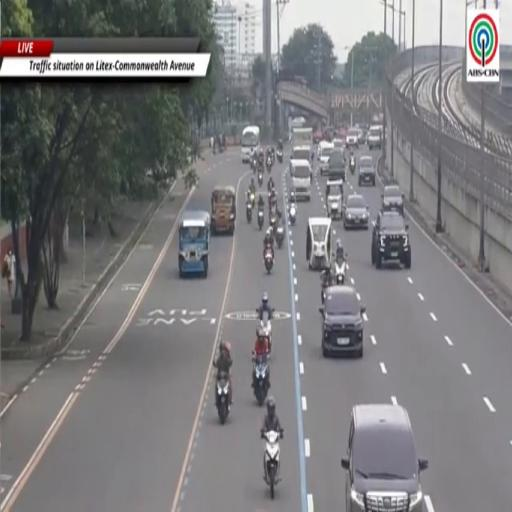bus: (241, 126, 260, 163)
car: (342, 404, 428, 511), (319, 285, 365, 358), (372, 211, 411, 268), (343, 195, 369, 229), (382, 185, 404, 215), (326, 181, 343, 219), (328, 150, 345, 181), (358, 156, 375, 186), (367, 125, 381, 150), (346, 128, 359, 148), (358, 128, 365, 145)
jeepney: (179, 211, 210, 277), (212, 186, 236, 234)
motorcycle: (261, 429, 283, 499), (253, 356, 269, 406), (216, 375, 230, 424), (260, 319, 272, 353), (264, 247, 273, 274), (335, 261, 345, 284), (321, 280, 328, 305), (276, 227, 284, 248), (289, 203, 296, 226), (246, 202, 252, 223), (258, 210, 264, 230), (349, 158, 355, 174), (270, 215, 276, 231), (250, 192, 255, 207), (258, 171, 263, 186), (267, 157, 272, 172), (277, 150, 282, 163), (250, 156, 254, 171)
truck: (292, 127, 313, 157)
